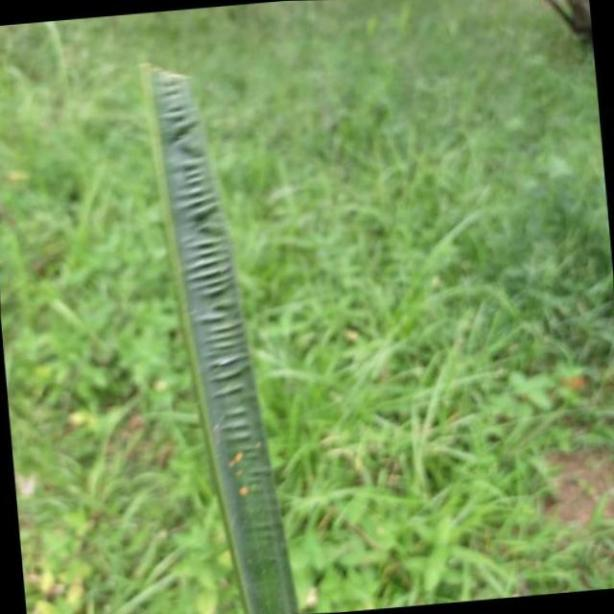Boron: (134, 54, 298, 614)
